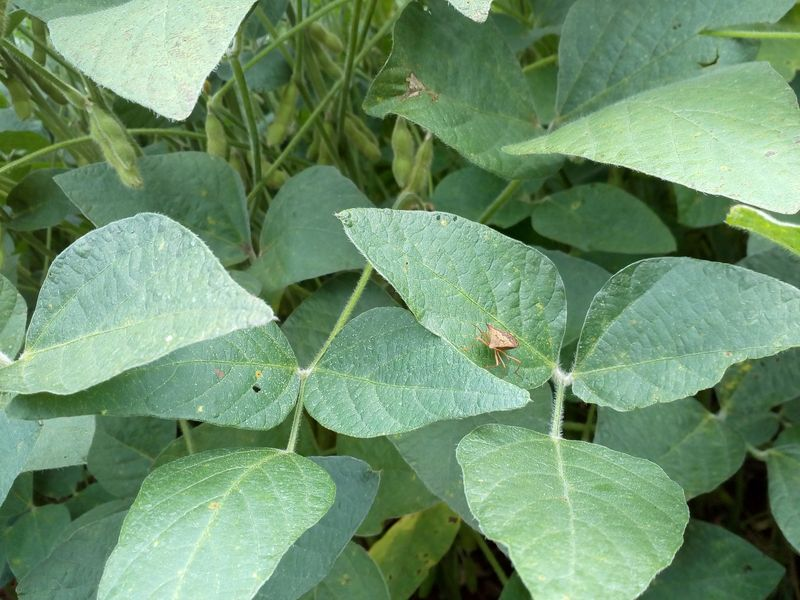Euschistus_heros_adulto: (462, 315, 532, 375)
